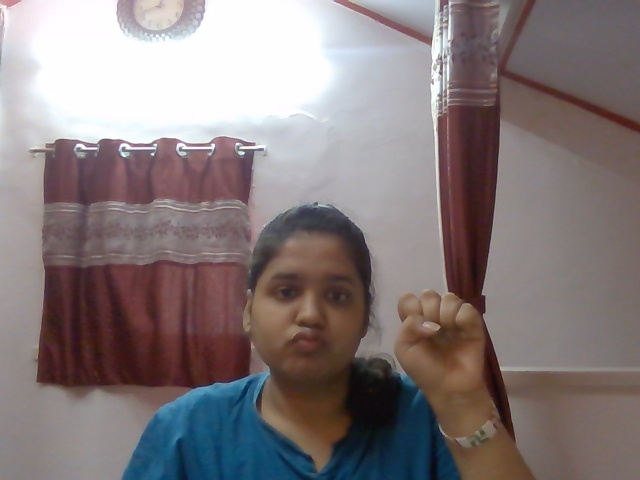s: (385, 281, 496, 398)
